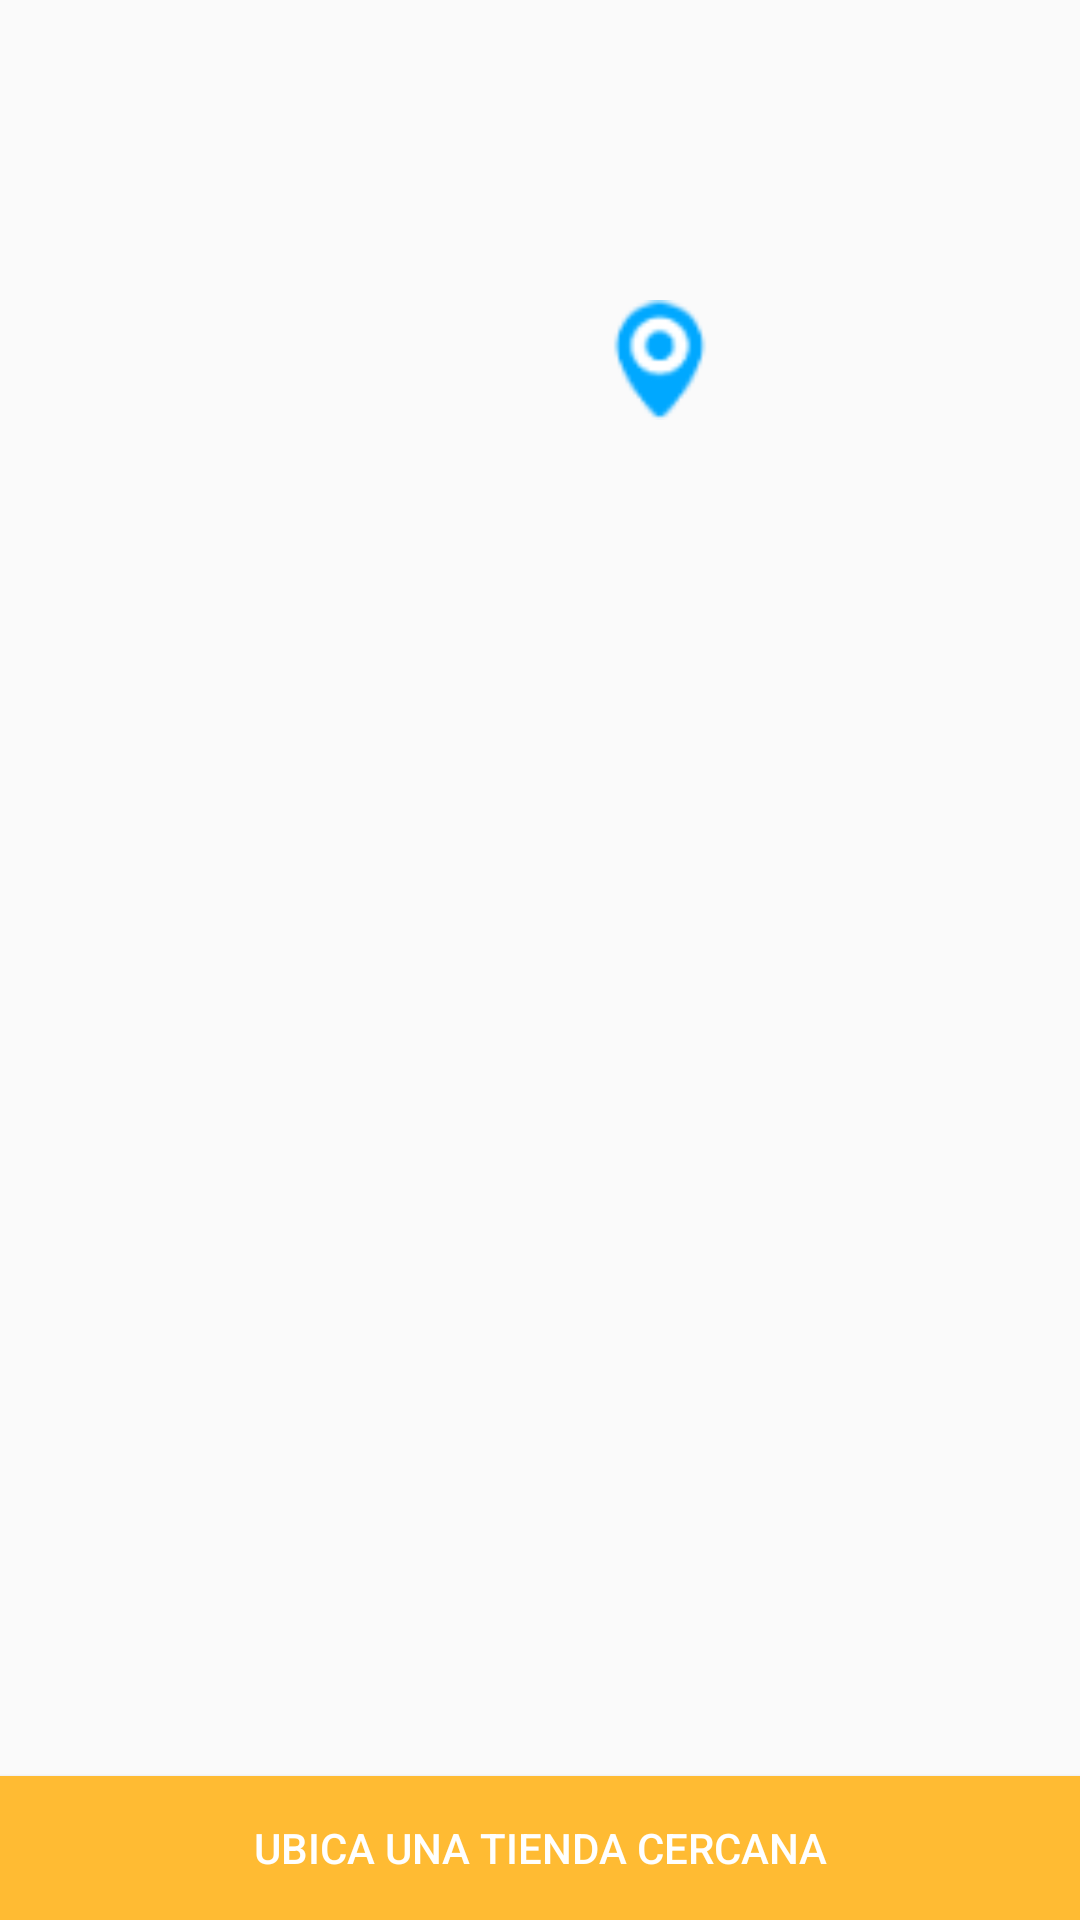

Screen size 1080 x 1920. Icon name, then its box in pixels as [x1=x1, y1=y1, x2=x2, y2=y2]:
gpsicon: [x1=614, y1=300, x2=706, y2=418]
